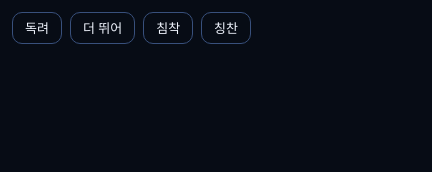
ShoutBar — 터치라인 외침 › 외침 클릭 → 사기 즉시 보정(정지 없음) + 쿨다운 진입으로 버튼 비활성
Step 1. Click the button "독려" → (37, 28), box [12, 12, 62, 44]
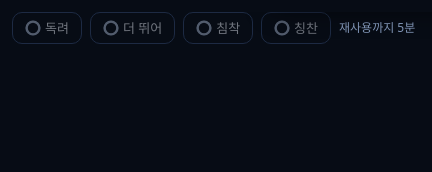
Result: the button "침착" is disabled at [183, 12, 253, 44]
